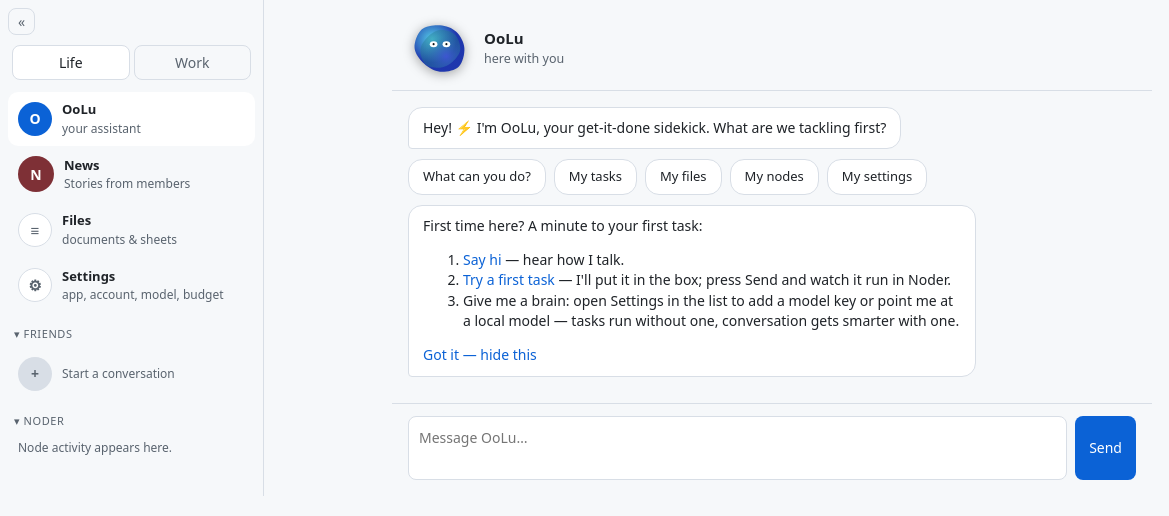
it: Life › lists the agent roster below OoLu and opens an agent's own thread
This screenshot has width=1169, height=516.
Click the text "News". click: (82, 164)
box: [64,156,100,174]
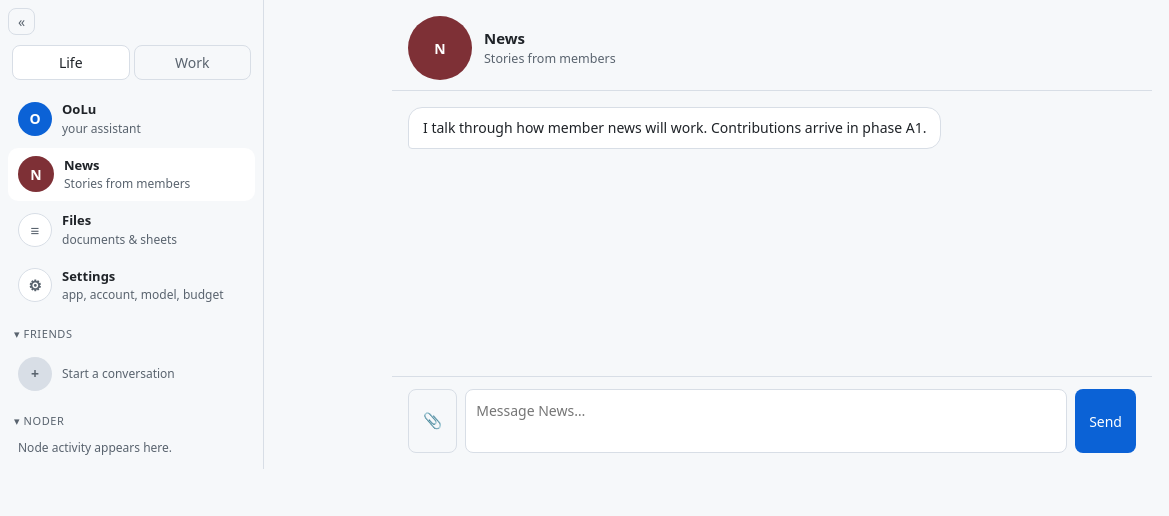
Result: the text "I talk through how member news will work." is shown at [423,118,707,137]
Type "hello" into the text box with placeholder "Message News…". click: (766, 421)
box: [465,389,1067,453]
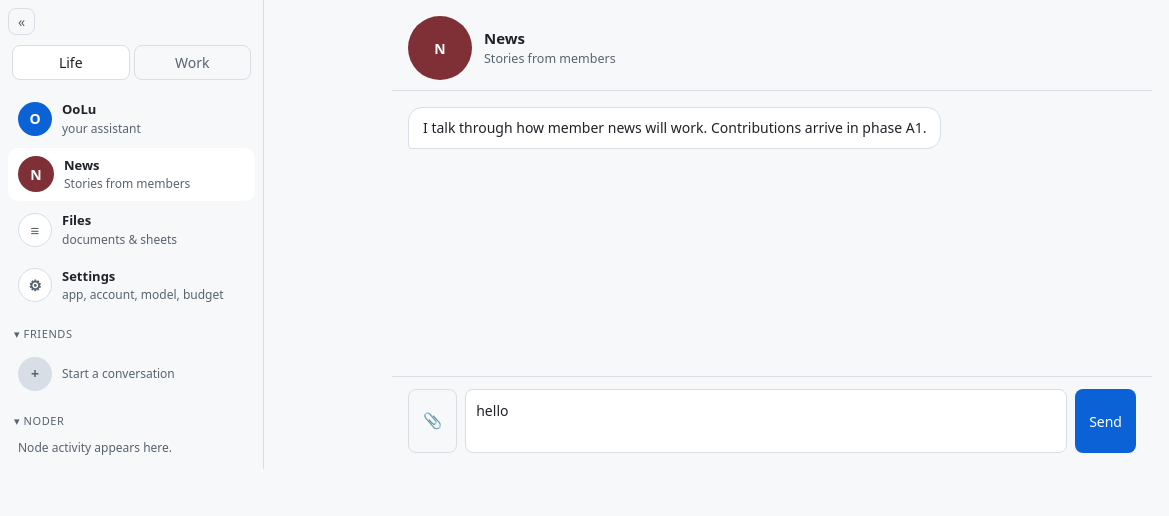
Press Enter in the text box with placeholder "Message News…", box [465,389,1067,453]
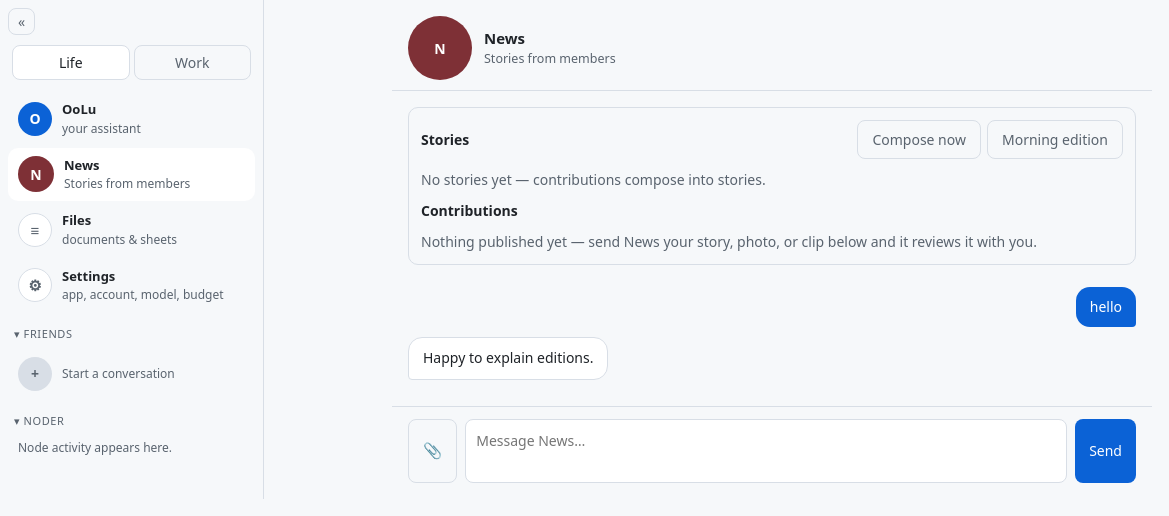
Result: the text "Happy to explain editions." is shown at [408,337,608,380]
